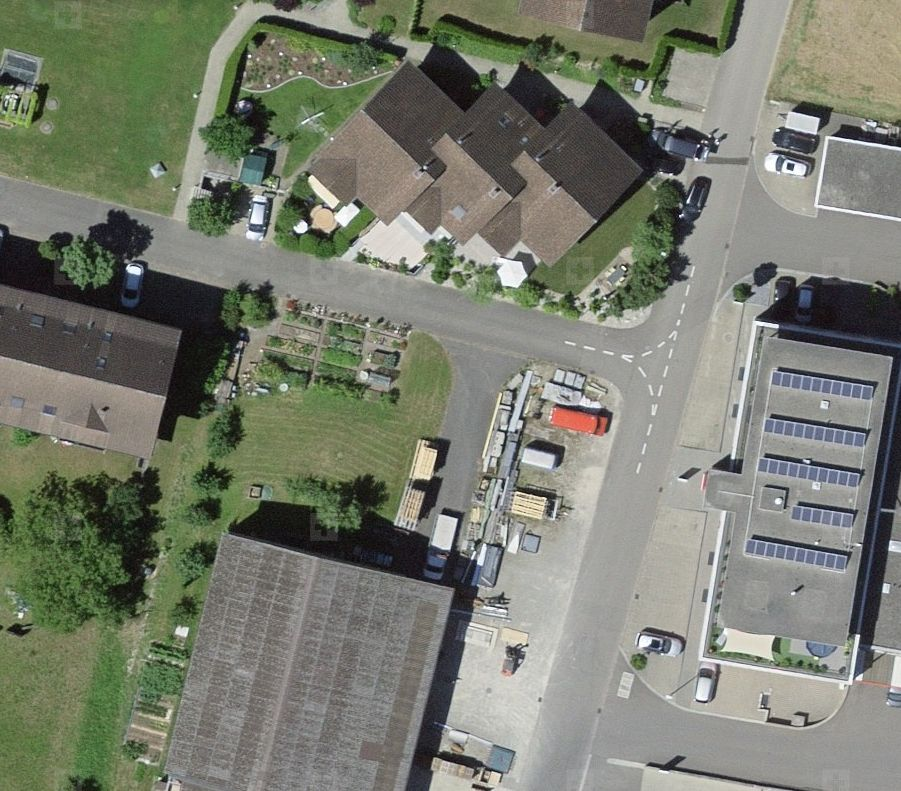solar: (740, 368, 876, 580)
